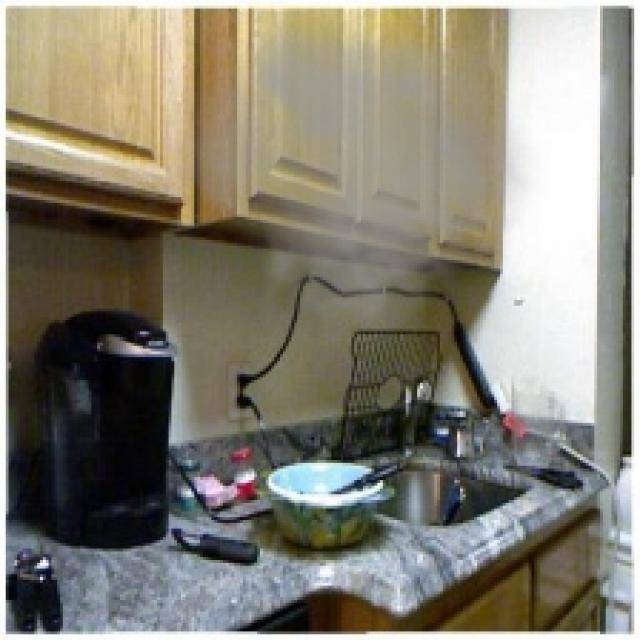Smoke: (162, 11, 548, 360)
